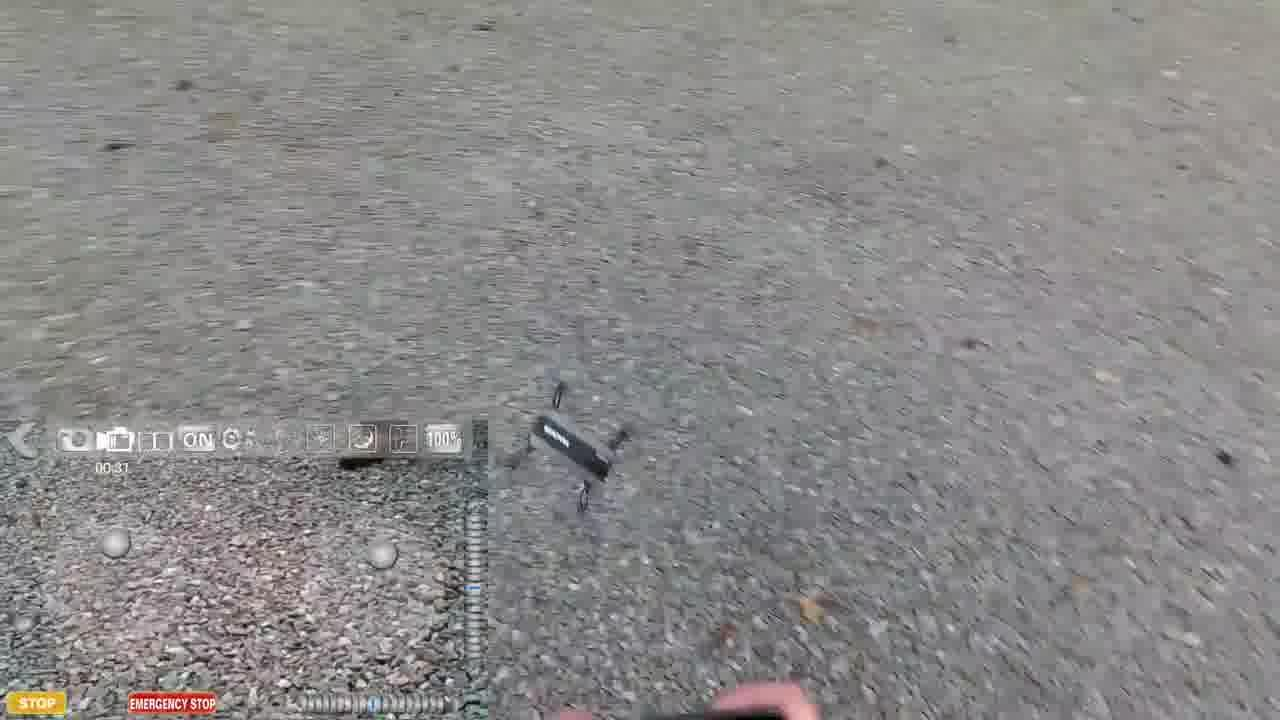drone: (479, 367, 643, 526)
